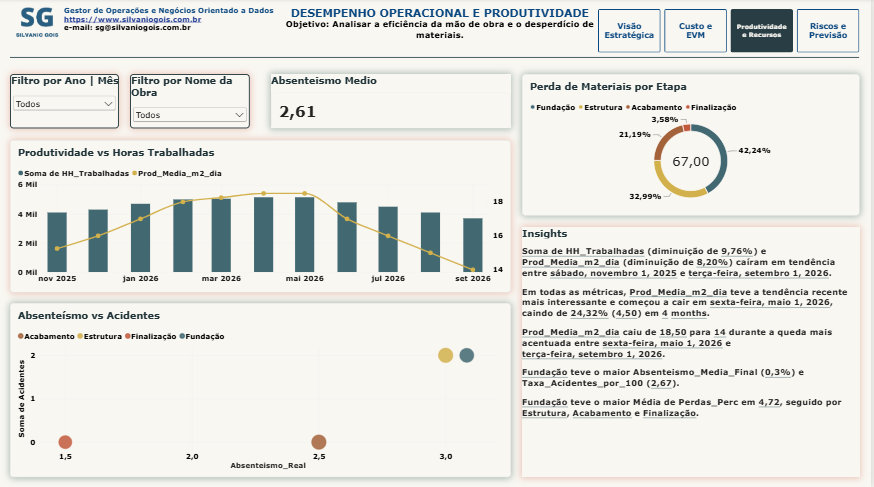

The dashboard page shown, as its layout file describes it:
{"tool":"powerbi","page":{"name":"Produtividade e Recursos","canvas":[1920,1080],"ordinal":2},"visuals":[{"type":"image","box":[24,0,120,96],"z":0},{"type":"textbox","box":[144,0,480,120],"z":1000},{"type":"textbox","box":[624,0,696,144],"z":2000},{"type":"pageNavigator","box":[1320,24,576,96],"z":3000},{"type":"shape","box":[24,120,1872,24],"z":4000},{"type":"lineClusteredColumnComboChart","title":"Produtividade vs Horas Trabalhadas","fields":{"Category":["Obras.Data_Referencia.Variation.Hierarquia de datas.Ano"],"Y":["Sum(Obras.HH_Trabalhadas)"],"Y2":["MedidasComposicaoProdutividade.Prod_Media_m2_dia"]},"box":[24,312,1104,336],"z":5000},{"type":"slicer","title":"Filtro por Nome da Obra","fields":{"Values":["Obras.Nome_Obra"]},"box":[288,168,264,120],"z":6000},{"type":"slicer","title":"Filtro por Ano | Mês","fields":{"Values":["Obras.Data_Referencia.Variation.Hierarquia de datas.Ano","Obras.Data_Referencia.Variation.Hierarquia de datas.Mês"]},"box":[24,168,240,120],"z":7000},{"type":"scatterChart","title":"Absenteísmo vs Acidentes","fields":{"Series":["Obras.Etapa"],"Size":["Max(Obras.Qtd_Funcionarios_Mes)"],"X":["MedidasCorrigidas.Absenteismo_Real"],"Y":["Sum(Obras.Acidentes)"]},"box":[24,672,1104,384],"z":8000},{"type":"donutChart","title":"Perda de Materiais por Etapa","fields":{"Category":["Obras.Etapa"],"Y":["Sum(Obras.Perdas_Perc)"]},"box":[1152,168,744,312],"z":9000},{"type":"cardVisual","title":"Absenteismo Medio","fields":{"Data":["MedidasCorrigidas.Absenteismo_Real"]},"box":[600,168,528,120],"z":10000},{"type":"textbox","title":"Insights","box":[1152,504,744,552],"z":11000}]}

Visuals, with their boxes in screenshot pixels (x1, y1, x2, y2), scaled from the page's 1920x1080 canvas onto the 874x487 screenshot:
image: (11, 0, 66, 43)
textbox: (66, 0, 284, 54)
textbox: (284, 0, 601, 65)
pageNavigator: (601, 11, 863, 54)
shape: (11, 54, 863, 65)
"Produtividade vs Horas Trabalhadas" lineClusteredColumnComboChart: (11, 141, 513, 292)
"Filtro por Nome da Obra" slicer: (131, 76, 251, 130)
"Filtro por Ano | Mês" slicer: (11, 76, 120, 130)
"Absenteísmo vs Acidentes" scatterChart: (11, 303, 513, 476)
"Perda de Materiais por Etapa" donutChart: (524, 76, 863, 216)
"Absenteismo Medio" cardVisual: (273, 76, 513, 130)
"Insights" textbox: (524, 227, 863, 476)
